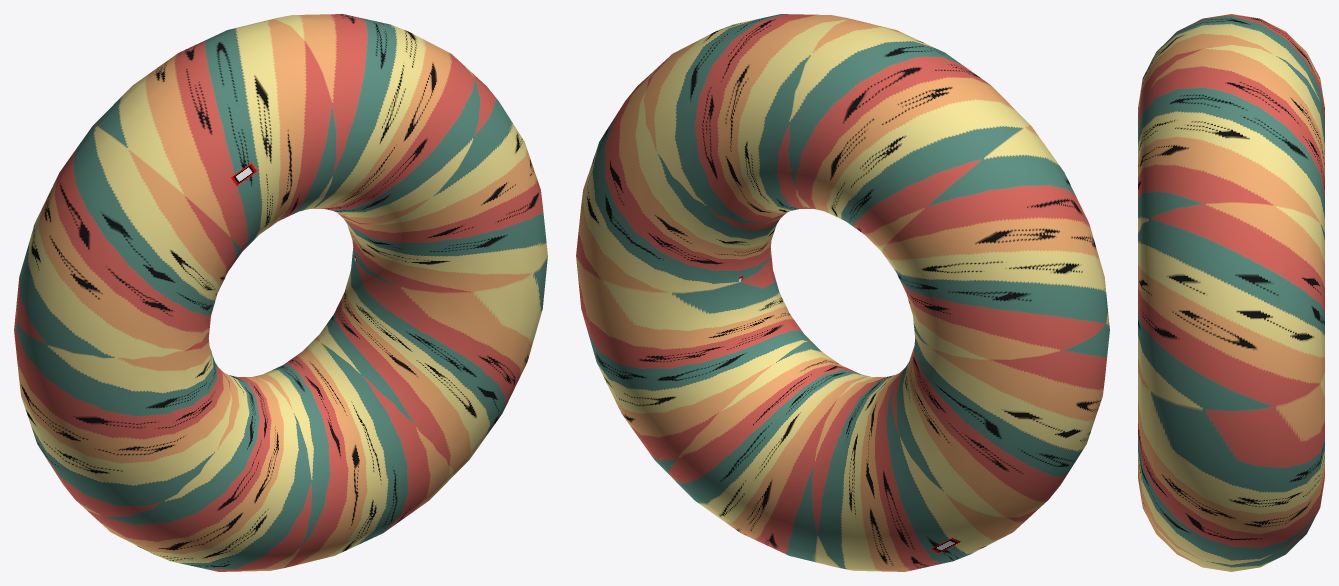
File: uv_checkerboard_res_1024_iter_6_dehn_twist.glb
3 views of the same model, side by side, from view 1: azimuth 30°, elevation 25°; view 2: azimuth 150°, elevation 25°; view 3: azimuth 270°, elevation 25° (orthographic). The views are drawn at different scales.
Parts seen in each view (by area): view 1: Node; view 2: Node; view 3: Node.
Boxes of the visible parts, <box> form: Node: <box>14,14,547,571</box>; Node: <box>576,14,1109,571</box>; Node: <box>1138,14,1324,571</box>.
Bounding box in the file's own units: 3 × 2.98 × 1.
1 material, 1 textured.
